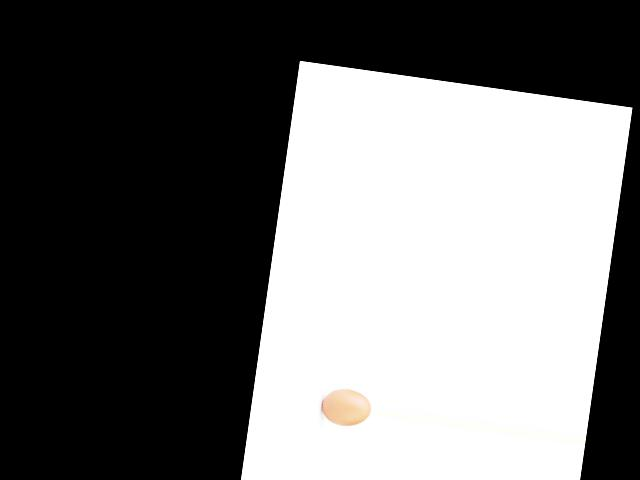egg: (319, 386, 372, 429)
